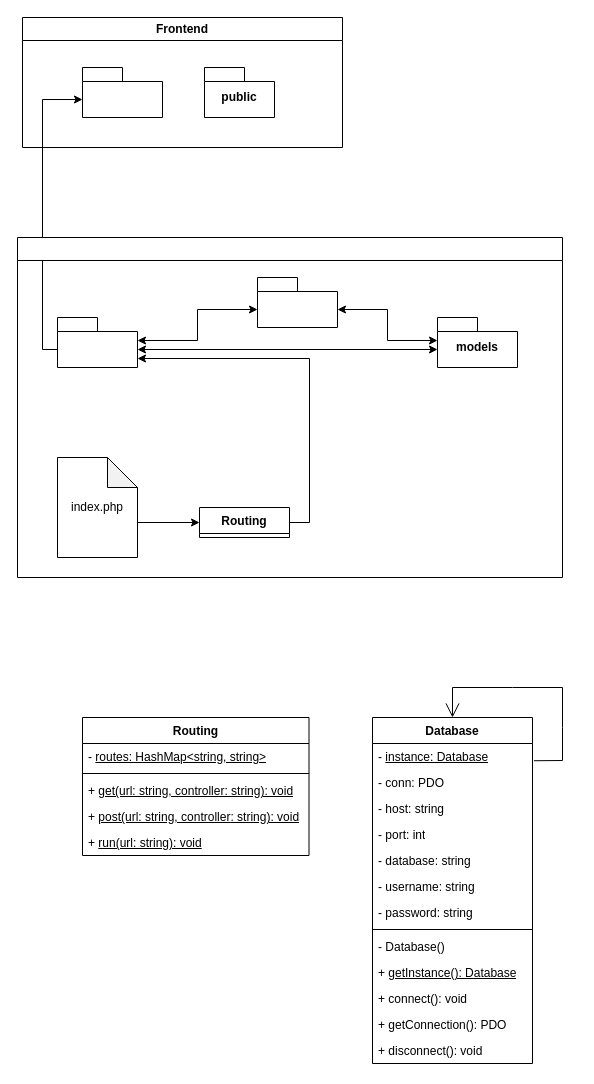
The diagram is 594 pixels wide and 1084 high, and some of its shapes have lost their labels. Here are the shapes that lost their labels. From the top down, the box of each, then its label:
(82, 66, 162, 118): views
(256, 276, 338, 328): repositories
(56, 316, 138, 368): controllers
(16, 236, 562, 578): Backend
